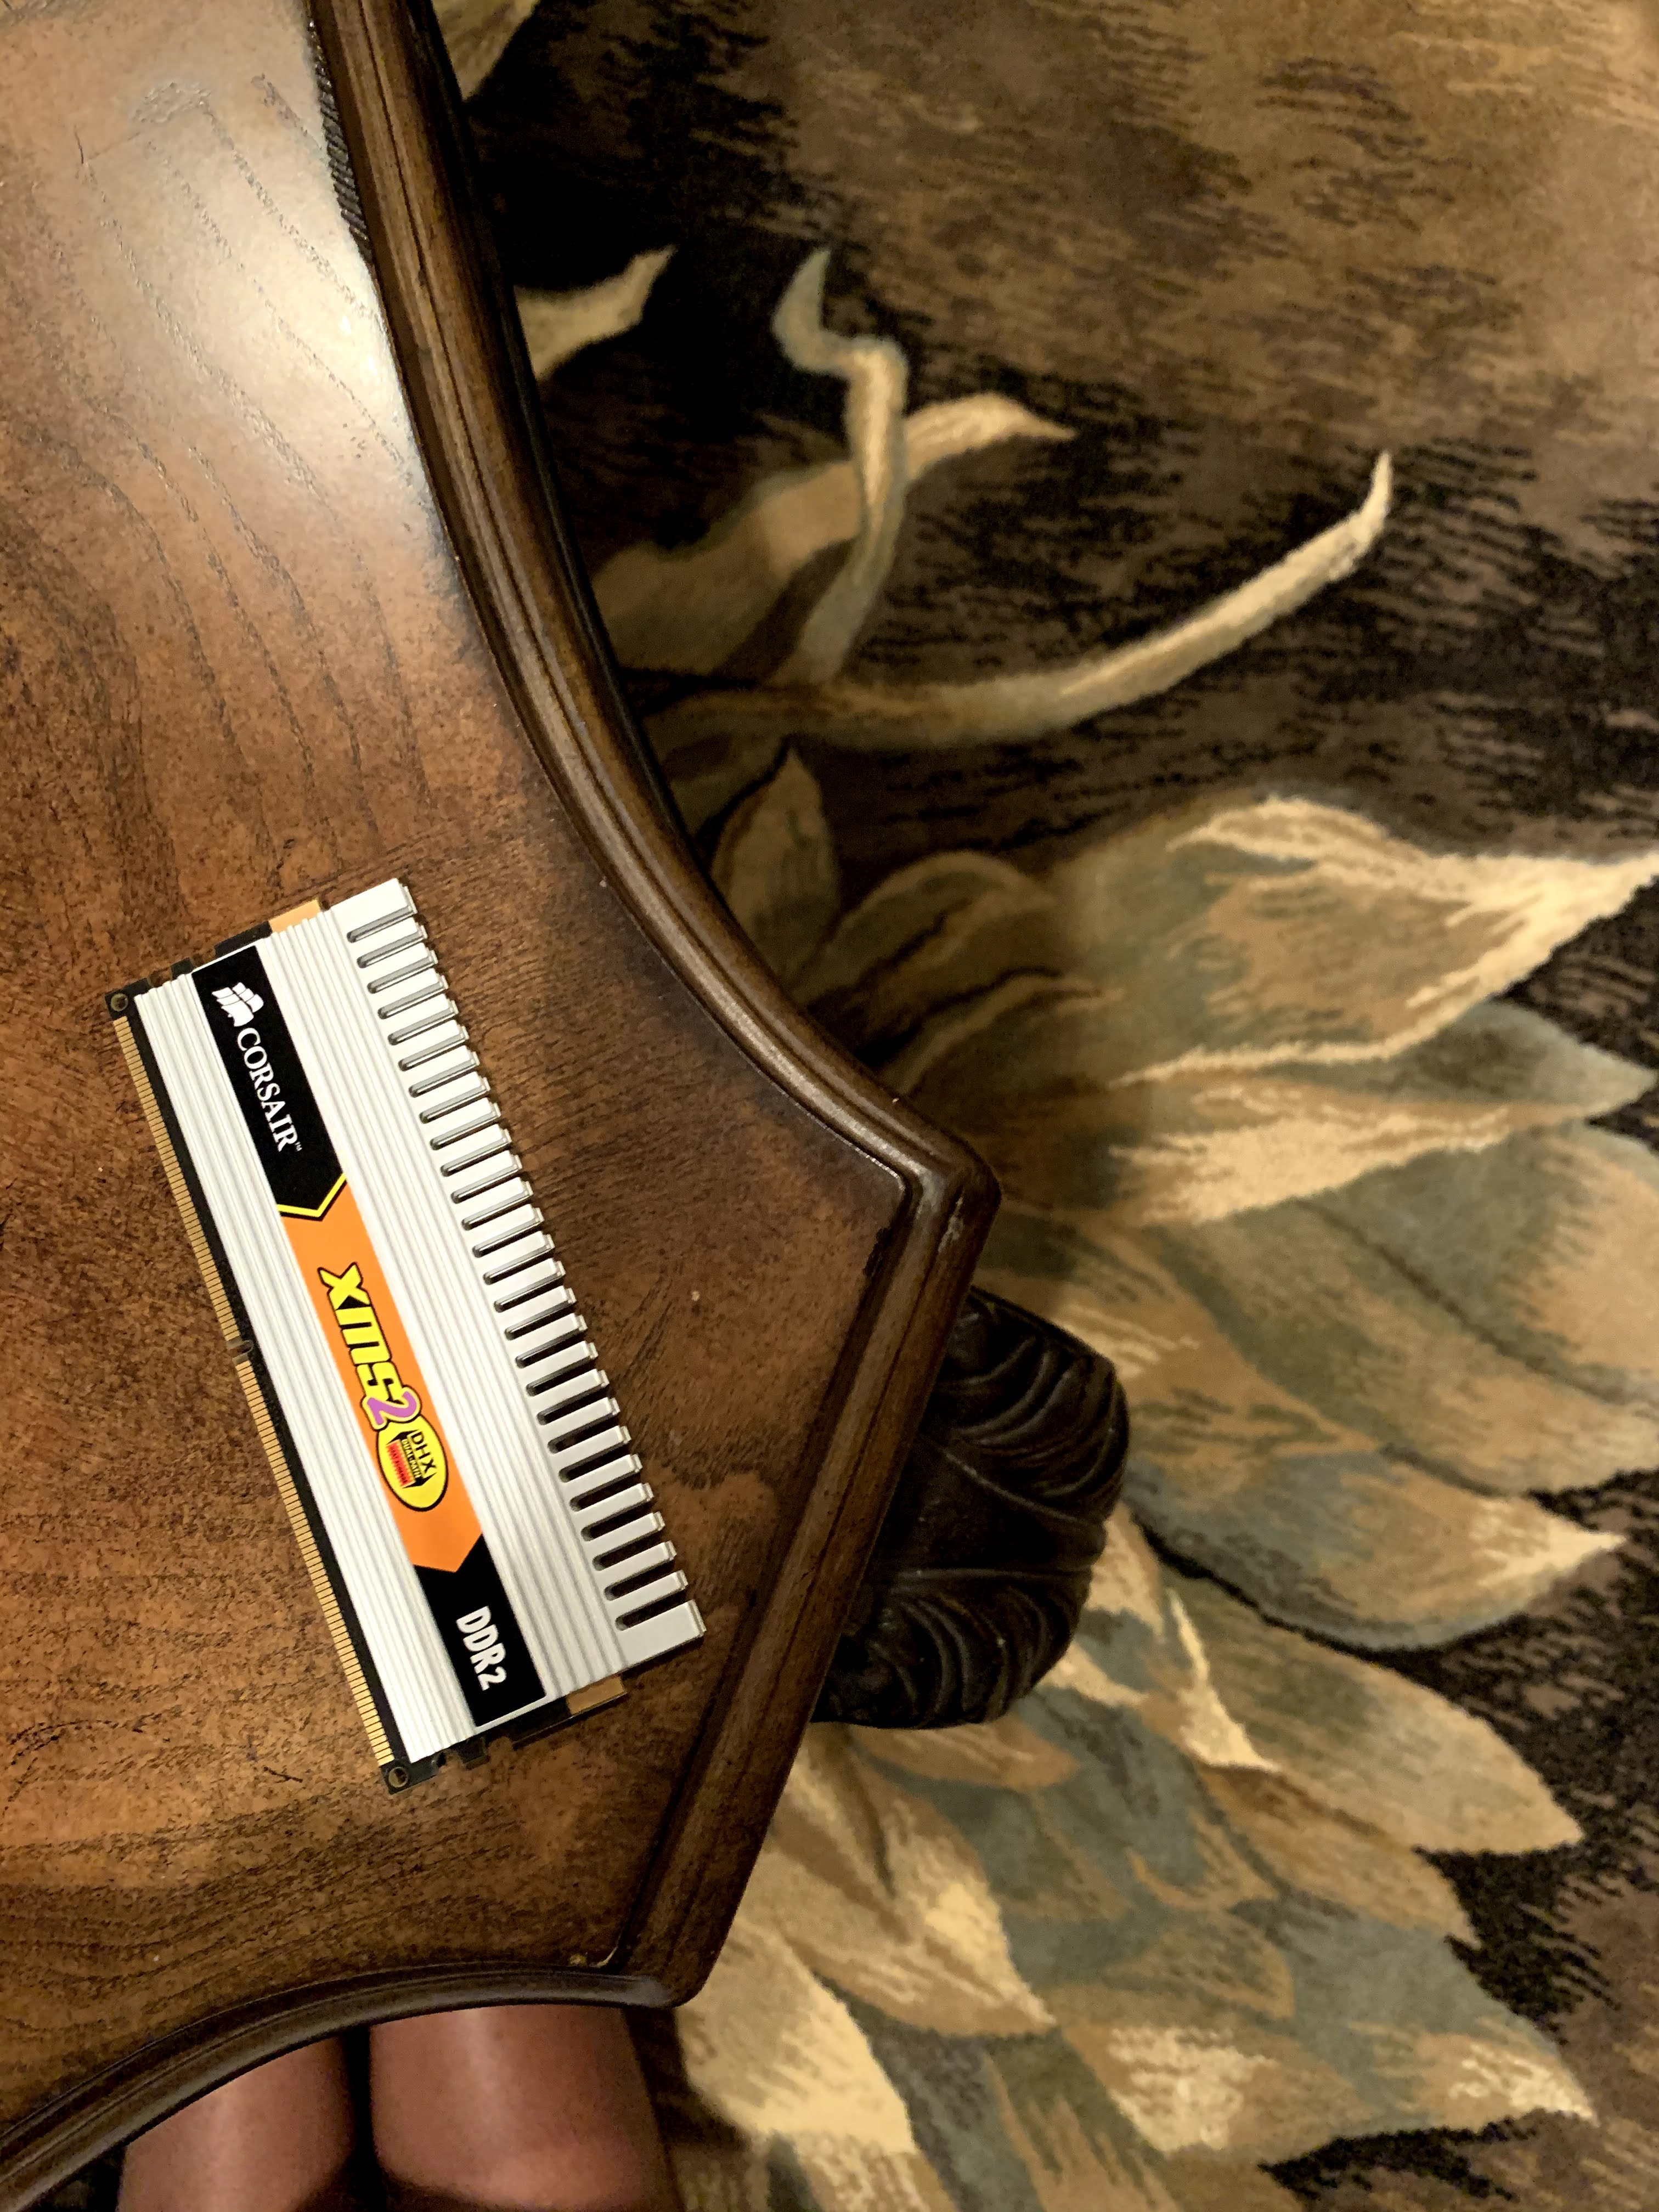Space-debris-medium: (71, 876, 735, 1778)
